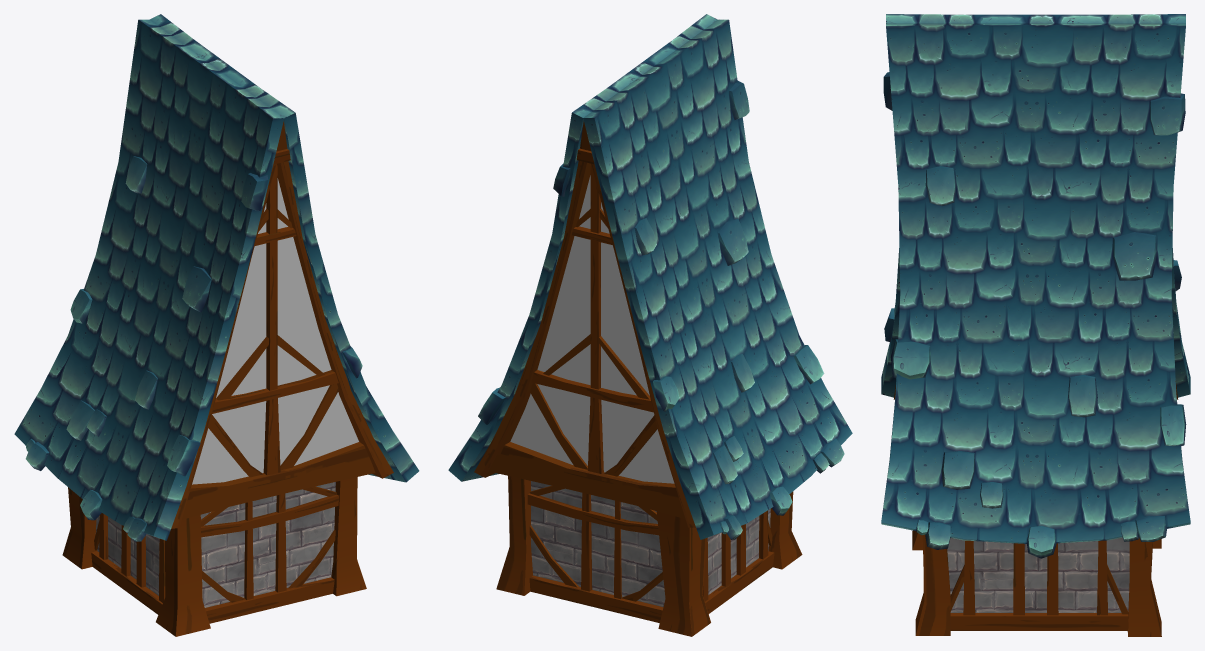
Rendered from SM_BLD_body_v01_01.fbx.
3 renders of one model, left to right at view 1: azimuth 30°, elevation 25°; view 2: azimuth 150°, elevation 25°; view 3: azimuth 270°, elevation 25°, orthographic. The views are drawn at different scales.
Visible parts, largest first — view 1: SM_BLD_body_v01_01; view 2: SM_BLD_body_v01_01; view 3: SM_BLD_body_v01_01.
Part boxes in pixels (box(x1,y1,x2,y2)): SM_BLD_body_v01_01: box(14, 14, 419, 636); SM_BLD_body_v01_01: box(448, 14, 852, 636); SM_BLD_body_v01_01: box(881, 14, 1190, 636).
Bounding box in the file's own units: 821 × 1428 × 711.
